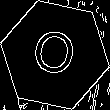O_S: (29, 25, 81, 85)
